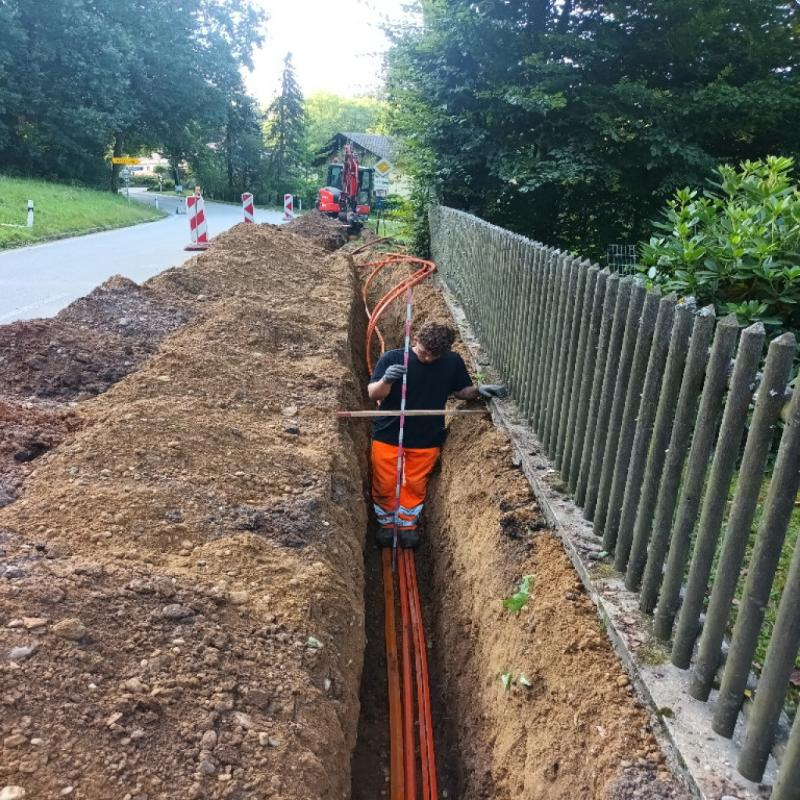Orang-Speednetrohrchen: (404, 552, 436, 800), (383, 552, 403, 799), (398, 556, 416, 800)
